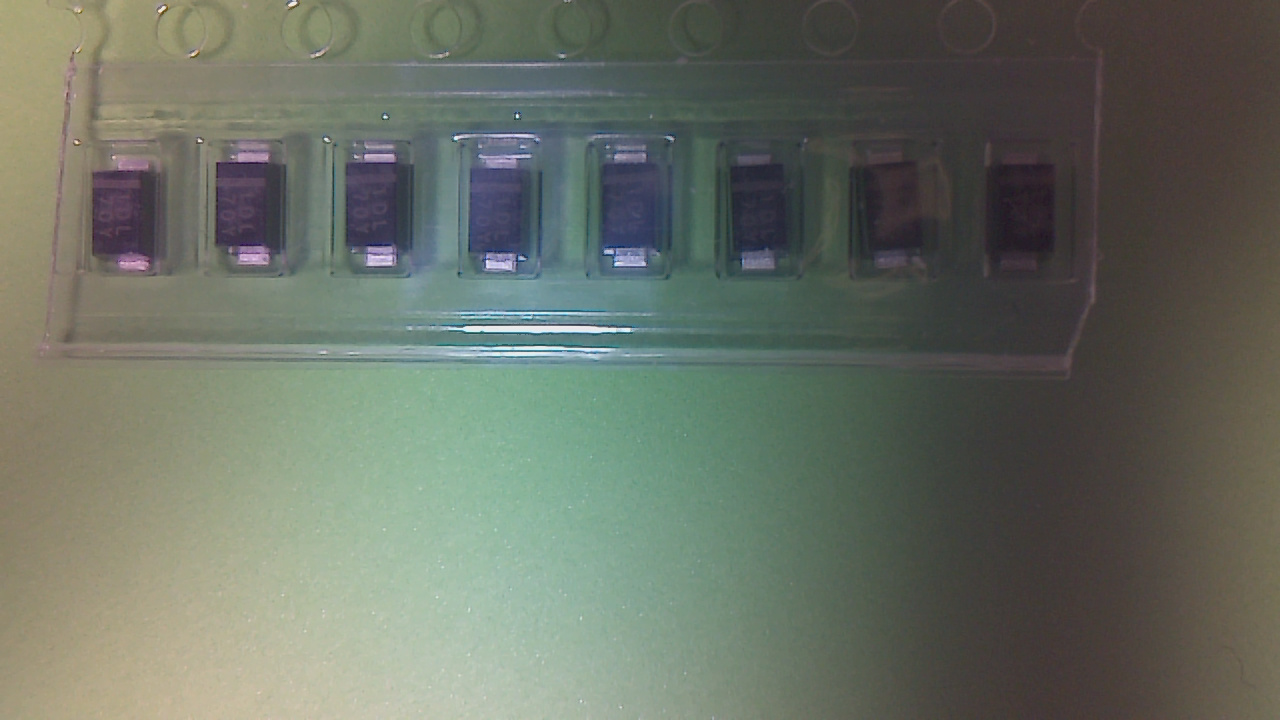Diode: (861, 147, 924, 278), (217, 155, 285, 273), (992, 156, 1057, 279), (729, 157, 790, 281), (99, 162, 166, 274), (602, 157, 661, 279), (353, 156, 409, 274), (471, 162, 526, 277)
